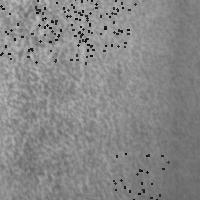pitted_surface: (1, 1, 148, 198), (71, 2, 127, 59), (0, 5, 49, 62), (74, 0, 134, 46), (112, 153, 167, 200), (44, 7, 90, 62), (34, 0, 91, 35)
